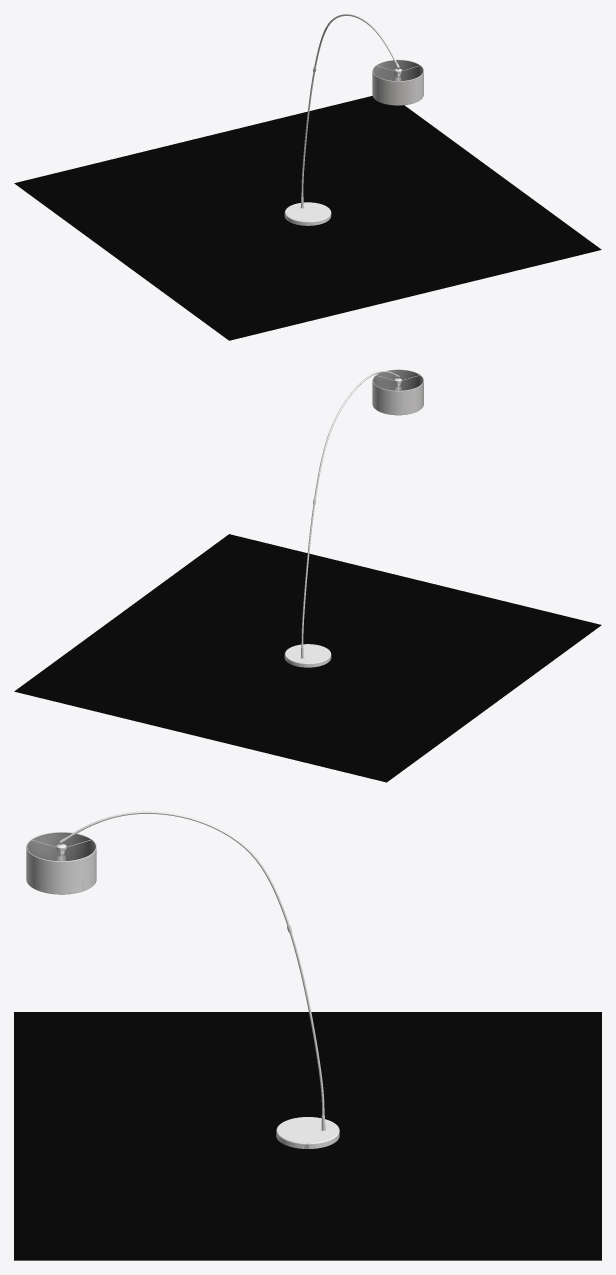
Rendered from sweep_floor_lamp.glb.
The picture shows the model from 3 angles, top to bottom: view 1: azimuth 30°, elevation 25°; view 2: azimuth 150°, elevation 25°; view 3: azimuth 270°, elevation 25°; orthographic projection. The views are drawn at different scales.
Parts seen in each view (by area): view 1: FLOOR, STEEL_MATT_GREY, LAMP_SHADE, COPPER; view 2: FLOOR, STEEL_MATT_GREY, LAMP_SHADE, COPPER; view 3: FLOOR, STEEL_MATT_GREY, LAMP_SHADE, COPPER.
Boxes of the visible parts, left/top/right/bottom form: FLOOR: left=14, top=96, right=601, bottom=340; STEEL_MATT_GREY: left=284, top=14, right=401, bottom=225; LAMP_SHADE: left=372, top=59, right=423, bottom=105; COPPER: left=373, top=60, right=423, bottom=81; FLOOR: left=14, top=534, right=601, bottom=782; STEEL_MATT_GREY: left=284, top=371, right=401, bottom=667; LAMP_SHADE: left=372, top=369, right=423, bottom=415; COPPER: left=373, top=370, right=423, bottom=390; FLOOR: left=14, top=1012, right=601, bottom=1260; STEEL_MATT_GREY: left=56, top=811, right=339, bottom=1148; LAMP_SHADE: left=26, top=832, right=96, bottom=894; COPPER: left=27, top=833, right=95, bottom=861.
Size of the model in its own units: 334 by 204 by 334.
Materials: 8 (7 with a texture image).
